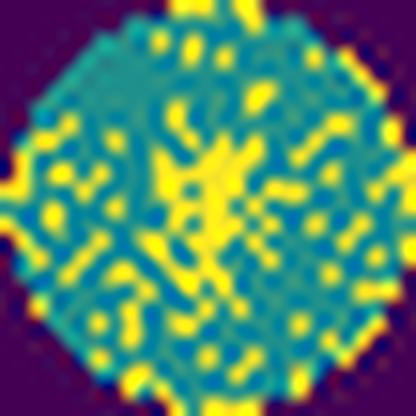Center: (145, 128, 264, 335)
